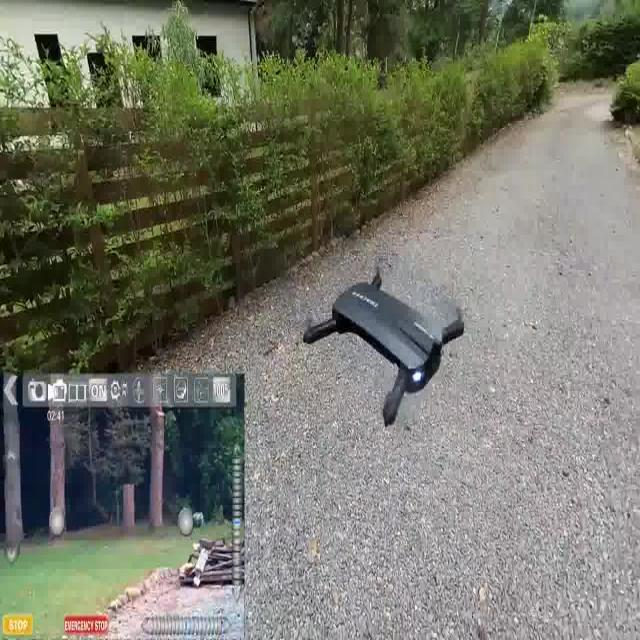Drone_FW: (296, 241, 467, 438)
